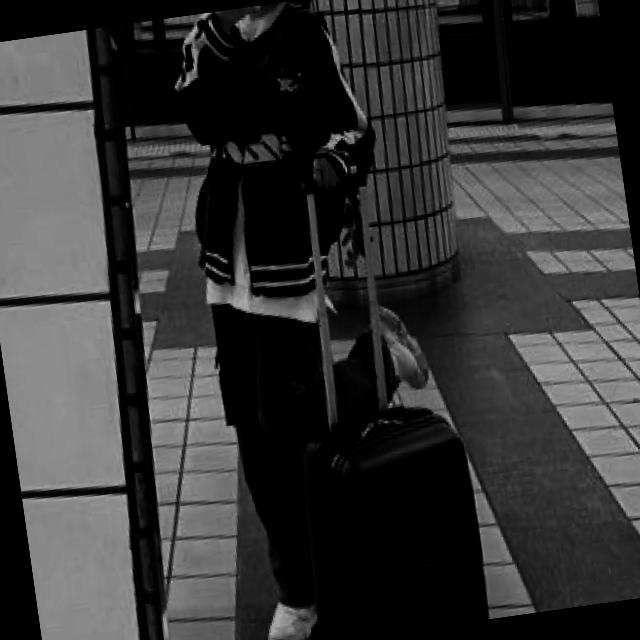cottonpants: (212, 270, 424, 618)
jacket: (161, 0, 393, 309)
